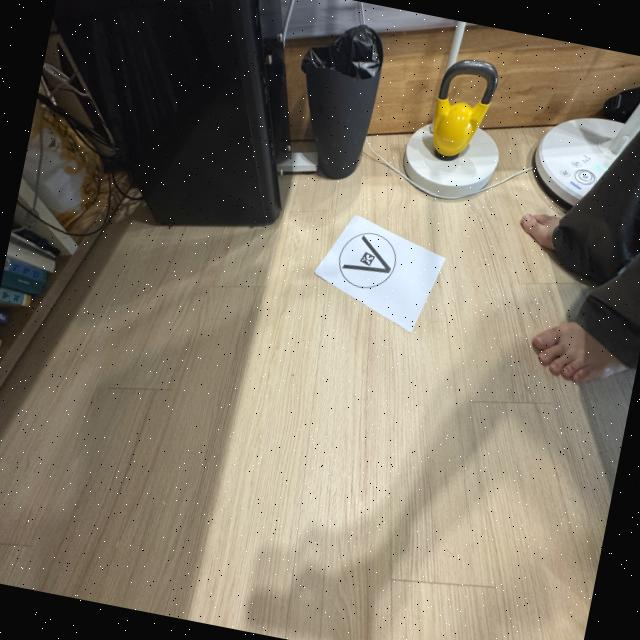ArUro mark: (332, 224, 402, 300)
